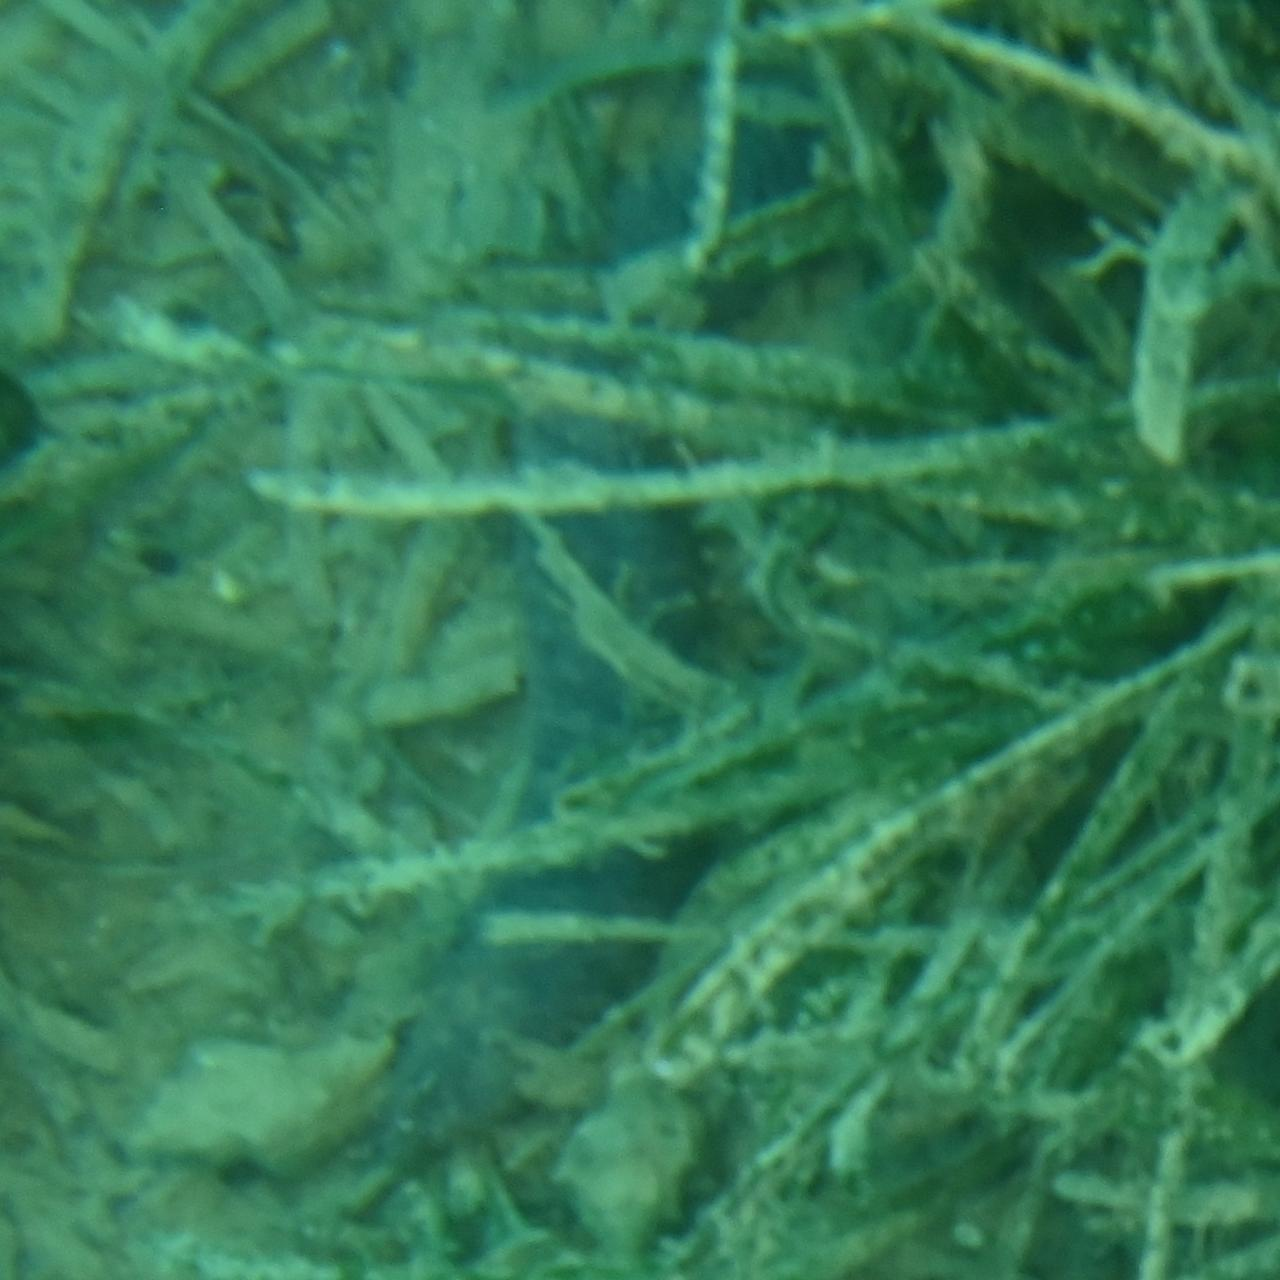Holothuria tubulosa: (368, 92, 912, 1188)
